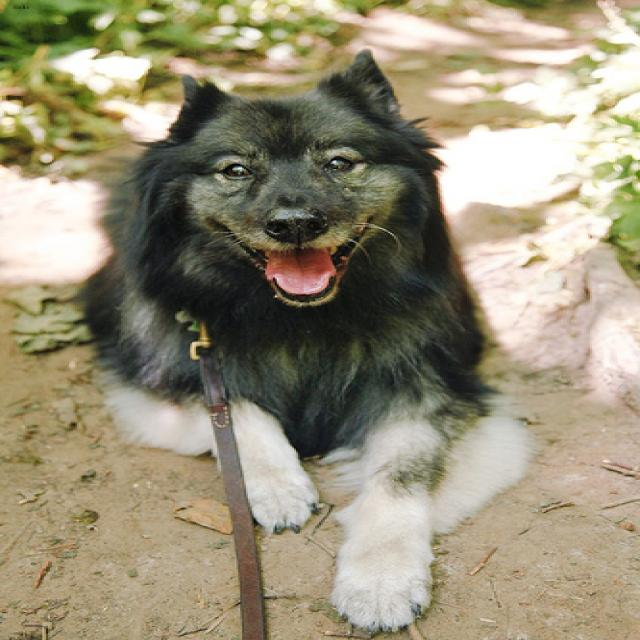dog-keeshond: (58, 37, 548, 637)
